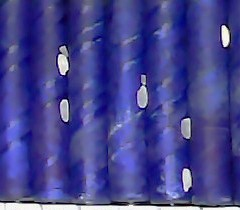broken_grain: (179, 114, 193, 141), (57, 44, 71, 56), (139, 74, 148, 86)
complete_grain: (181, 166, 195, 195), (58, 96, 71, 124), (135, 84, 149, 109), (220, 22, 232, 50), (57, 54, 71, 77)
